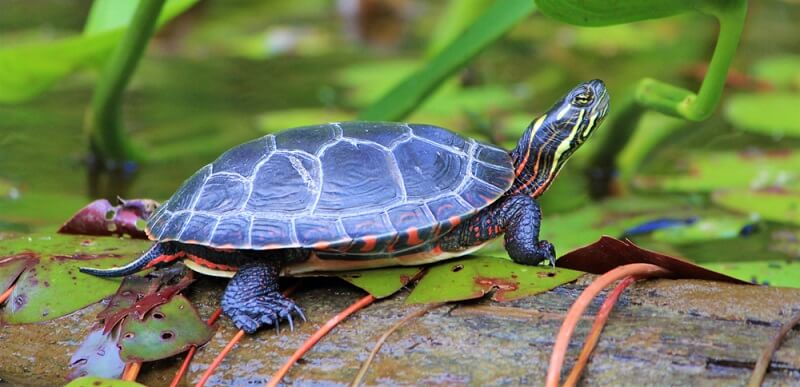eye: (569, 85, 595, 111)
mouth: (595, 88, 612, 131)
